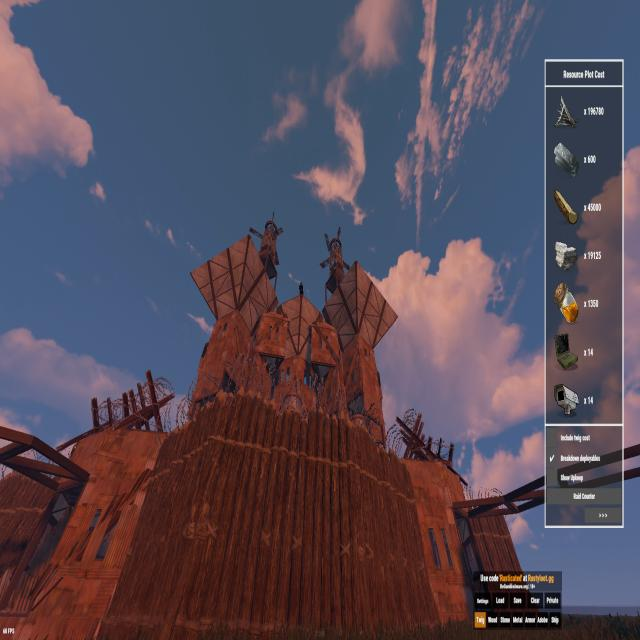Player: (298, 279, 304, 296)
